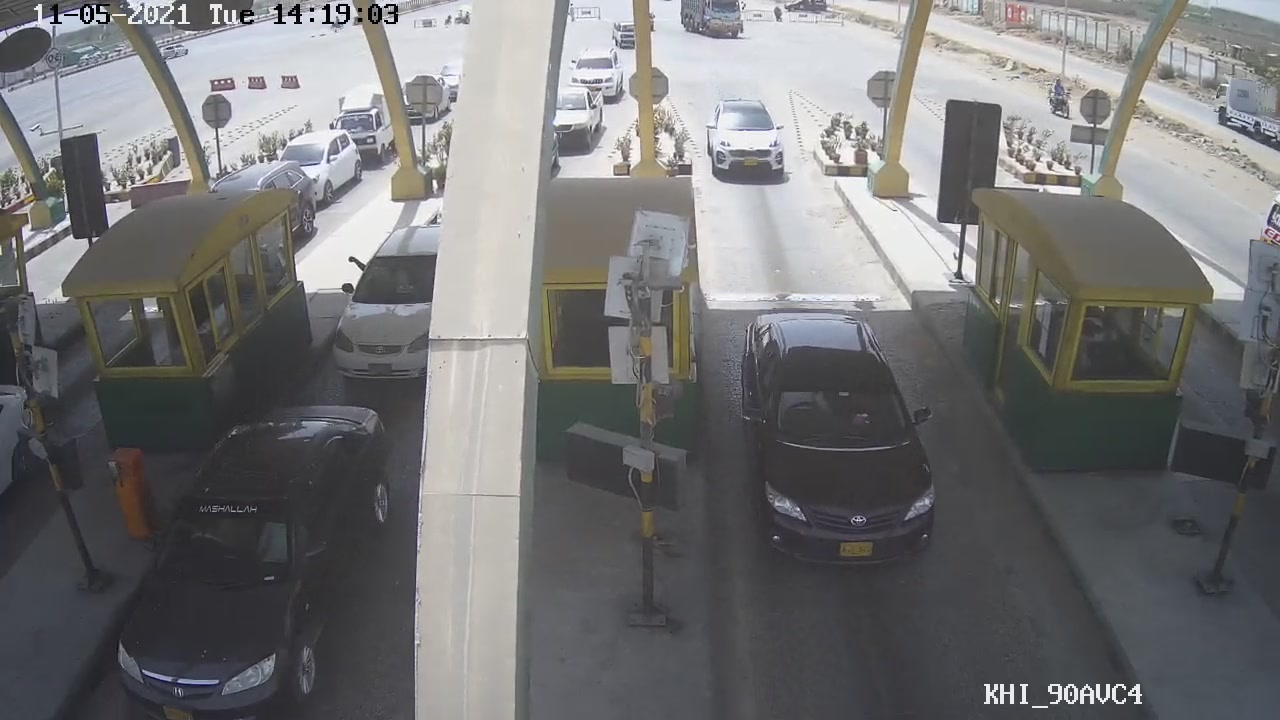F1: (742, 302, 939, 576)
